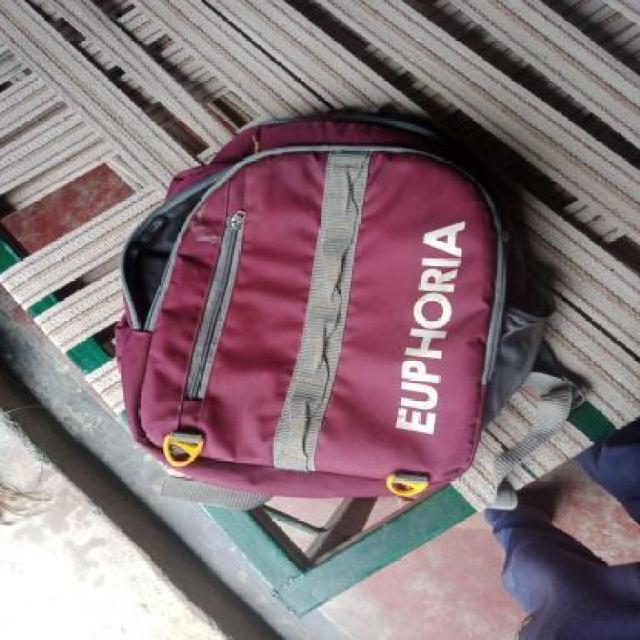backpack: (107, 97, 558, 506)
